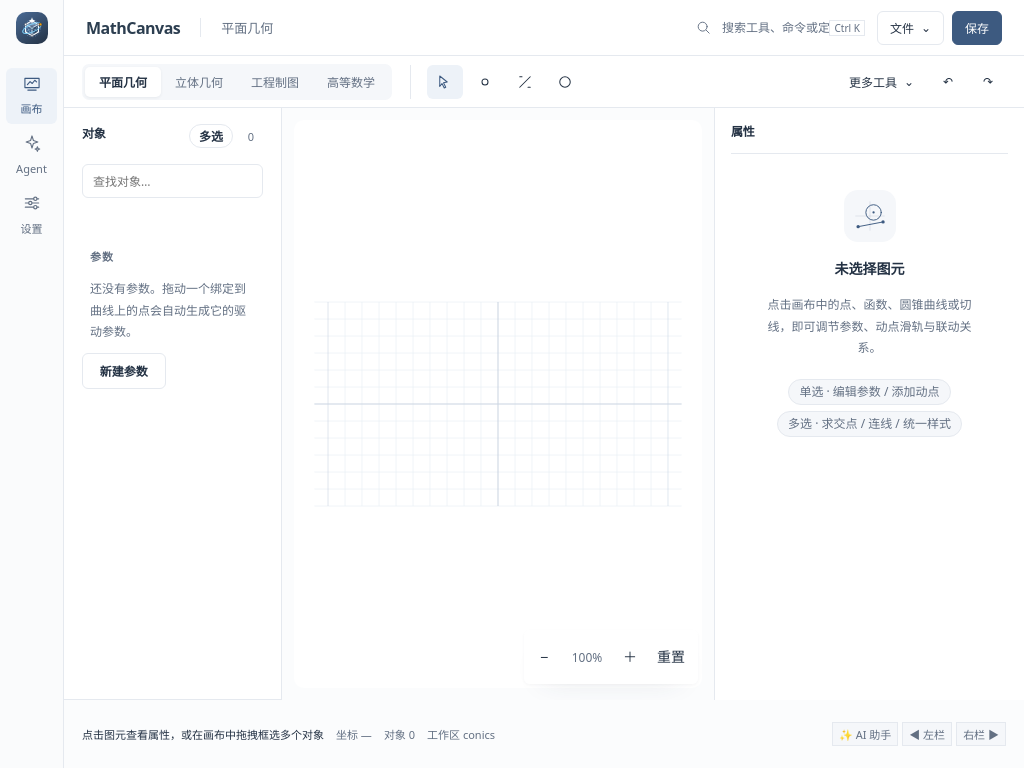
Test: Block 4: AI Copilot 同屏抽屉与画布实时 Ghost 草稿预览 › 支持通过状态栏按钮展开与收起 AI Copilot 同屏抽屉（不卸载主画布）
Expected: the picture named "几何画布" is shown, [294,120,702,688]
Click the button "✨ AI 助手": (865, 734) [832,722,898,746]
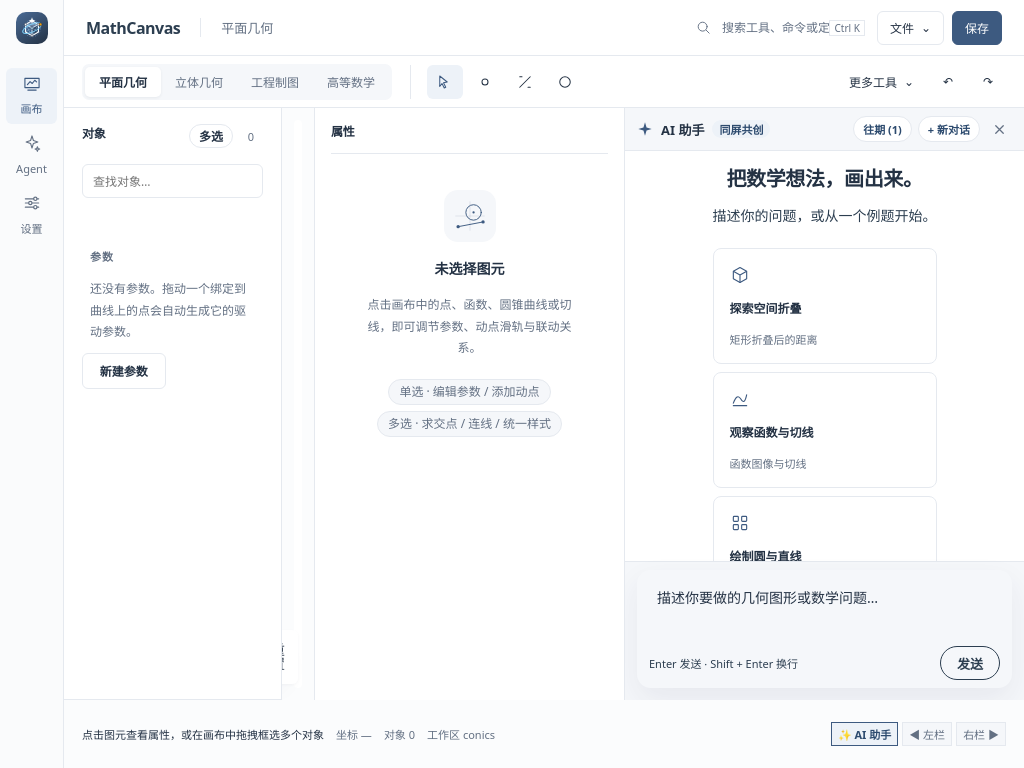
Result: the button "✨ AI 助手" is expanded at [831,722,898,746]
Result: the element named "AI 助手抽屉" is shown at [624,108,1023,700]
# 点击关闭按钮关闭抽屉
Click the button named "关闭 AI 助手": (999, 129) [986,116,1012,142]
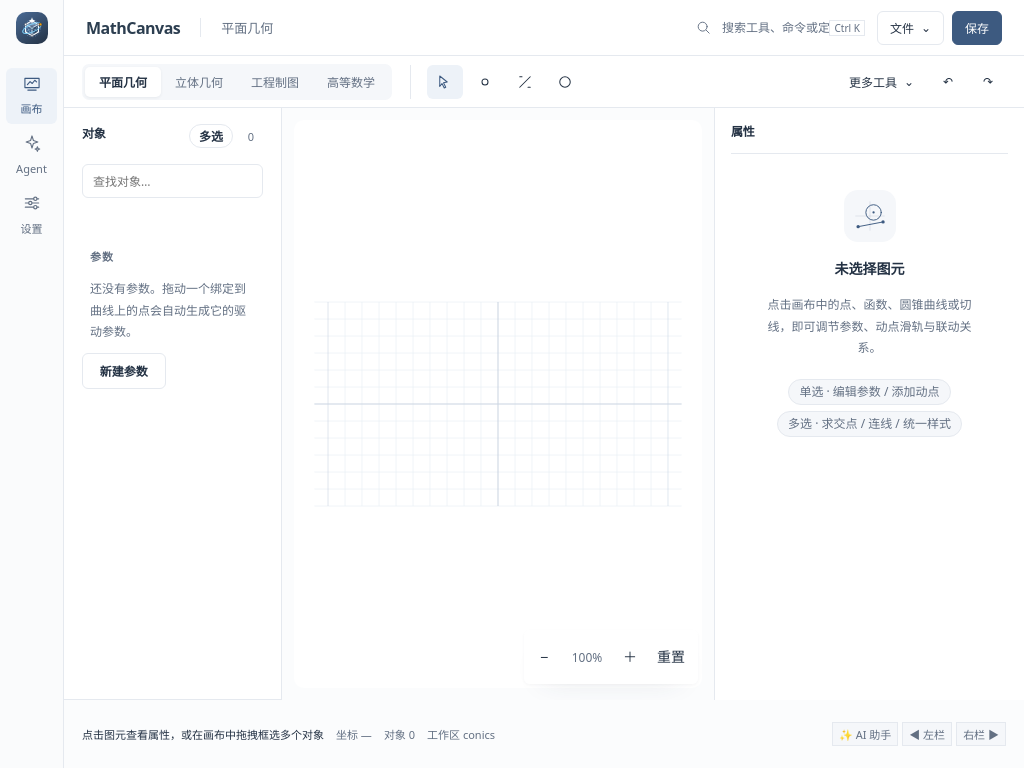
Result: the button "✨ AI 助手" is collapsed at [832,722,898,746]
